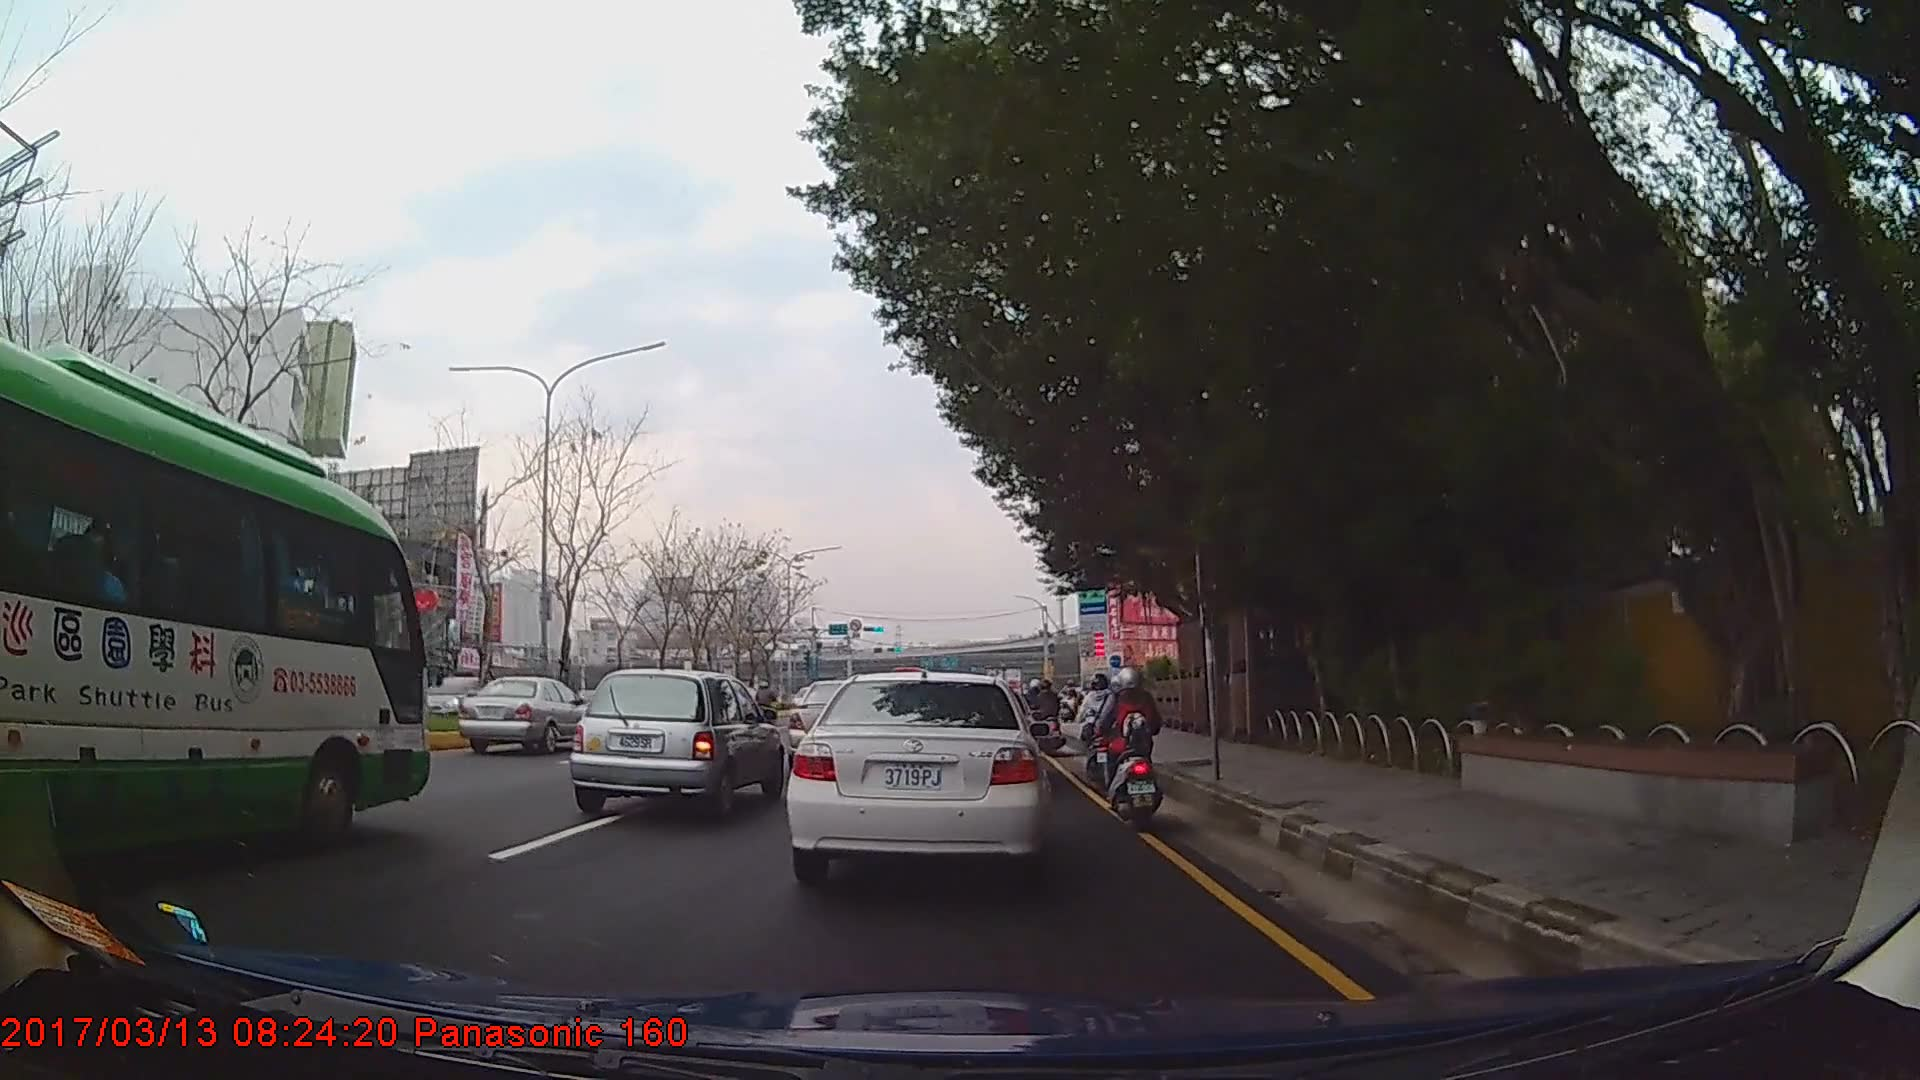rider: (1104, 661, 1164, 820), (1078, 673, 1123, 792), (1035, 676, 1062, 737)
vehicle: (0, 331, 429, 893), (784, 670, 1048, 882), (570, 666, 786, 818), (457, 672, 594, 755), (417, 671, 491, 727)
